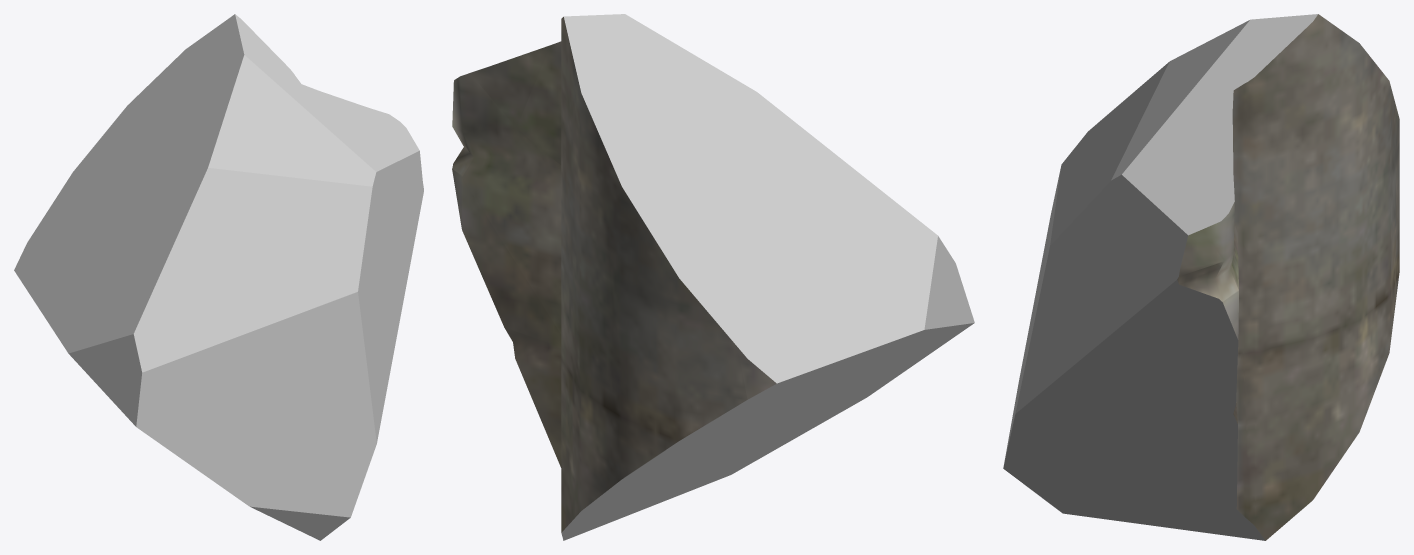
Rendered from ColumnDamage08_39.fbx.
3 renders of one model, left to right at view 1: azimuth 30°, elevation 25°; view 2: azimuth 150°, elevation 25°; view 3: azimuth 270°, elevation 25°, orthographic. The views are drawn at different scales.
Parts seen in each view (by area): view 1: ColumnDamage08_DM.039; view 2: ColumnDamage08_DM.039; view 3: ColumnDamage08_DM.039.
Boxes of the visible parts, x1,y1,x2,y2 form: ColumnDamage08_DM.039: (14, 14, 423, 540); ColumnDamage08_DM.039: (452, 14, 974, 540); ColumnDamage08_DM.039: (1003, 14, 1399, 540).
Bounding box in the file's own units: 141 × 166 × 116.
